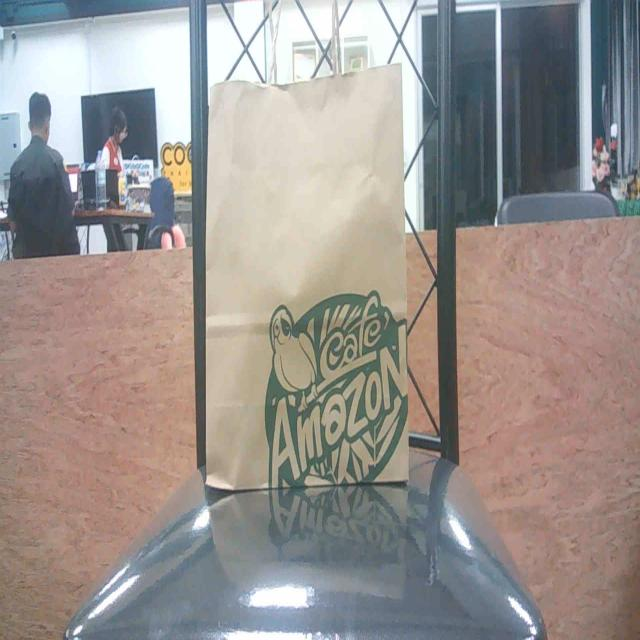bag: (205, 63, 412, 476)
